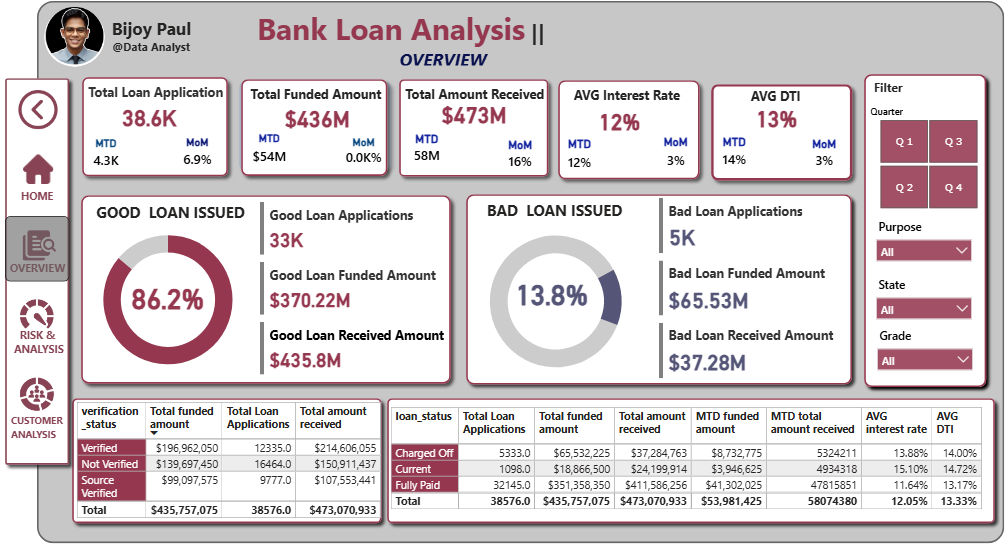

This screenshot's page, from the dashboard's own definition file:
{"tool":"powerbi","page":{"name":"Overview","canvas":[1280,720],"ordinal":0},"visuals":[{"type":"shape","box":[301.6,105.9,207.4,129.5],"z":0},{"type":"shape","box":[57.4,15.1,1209.1,677.7],"z":1000},{"type":"shape","box":[700.3,105.1,194.7,141.9],"z":1000,"group":"g2"},{"type":"shape","box":[891.4,109.4,194.4,138.2],"z":2000},{"type":"card","fields":{"Values":["All_Measure.AVG DTI"]},"box":[940.3,136.8,83.5,50.4],"z":3000},{"type":"shape","box":[501.1,103.7,204.5,139.7],"z":4000},{"type":"card","fields":{"Values":["All_Measure.Total amount received"]},"box":[516.4,133.9,175.1,45.6],"z":5000},{"type":"textbox","box":[917.7,117.7,122.3,36.2],"z":6000},{"type":"card","fields":{"Values":["All_Measure.AVG interest rate"]},"box":[736.5,138.3,98.1,52.8],"z":6000,"group":"g2"},{"type":"card","title":"MTD","fields":{"Values":["All_Measure.MTD avg dti"]},"box":[888.5,184.3,80.6,40.3],"z":7000},{"type":"textbox","box":[704.8,116.4,175.2,40.4],"z":8000,"group":"g2"},{"type":"card","title":"MoM","fields":{"Values":["All_Measure.MoM avg dti"]},"box":[1010.9,185.8,60.5,44.6],"z":8000},{"type":"shape","box":[303.4,104.2,200.8,138.9],"z":9000},{"type":"textbox","box":[506.9,115.2,194.4,33.1],"z":10000},{"type":"card","title":"MTD","fields":{"Values":["All_Measure.MTD avg interest rate"]},"box":[701.4,186.9,68.7,47.8],"z":10000,"group":"g2"},{"type":"shape","box":[104.7,101.1,200.1,141.9],"z":11000,"group":"g1"},{"type":"card","title":"MTD","fields":{"Values":["All_Measure.MTD total amount received"]},"box":[513.2,179.6,61.9,43.8],"z":11000},{"type":"card","title":"MoM","fields":{"Values":["All_Measure.MoM avg int rate"]},"box":[828.8,184.1,54.3,48.3],"z":12000,"group":"g2"},{"type":"shape","box":[104.2,249.1,480,253.6],"z":12000},{"type":"card","title":"MoM","fields":{"Values":["All_Measure.MoM amount received"]},"box":[630.9,187.2,60.4,42.3],"z":13000},{"type":"shape","box":[583.8,248.1,500.2,256],"z":13000,"group":"g3"},{"type":"card","fields":{"Values":["All_Measure.Total funded amount"]},"box":[303.4,135.8,208.3,49.8],"z":14000},{"type":"donutChart","fields":{"Category":["financial_loan.Good Vs Bad Loan"],"Y":["All_Measure.Total Loan Applications"]},"box":[101.1,282.8,239.8,211.9],"z":15000},{"type":"card","fields":{"Values":["All_Measure.Good loan %"]},"box":[164.2,360,113.8,50.4],"z":16000},{"type":"cardVisual","fields":{"Data":["All_Measure.Bad Loan Applications","All_Measure.Bad Loan Funded Amount","All_Measure.Bad Loan Received Amount"]},"box":[829.8,256.8,254.9,236.2],"z":17000,"group":"g3"},{"type":"cardVisual","fields":{"Data":["All_Measure.Good Loan Applications","All_Measure.Good Loan Funded Amount","All_Measure.Good Loan Received Amount"]},"box":[331.2,260.6,253.4,229],"z":17000},{"type":"shape","box":[1082.3,98.1,170.6,409.1],"z":18000},{"type":"card","fields":{"Values":["All_Measure.Total Loan Applications"]},"box":[135.1,131.7,123.3,54.8],"z":18000,"group":"g1"},{"type":"textbox","box":[554.4,259.4,293.8,49],"z":18000,"group":"g3"},{"type":"textbox","box":[74.9,260.6,293.8,46.1],"z":19000},{"type":"slicer","fields":{"Values":["financial_loan.purpose"]},"box":[1096.4,280.9,139.8,92.7],"z":20000},{"type":"slicer","fields":{"Values":["financial_loan.address_state"]},"box":[1095.8,353.2,140.4,66.4],"z":21000},{"type":"textbox","box":[302.4,115.2,207.4,31.7],"z":22000},{"type":"textbox","box":[99.4,112.6,211.7,34.6],"z":23000,"group":"g1"},{"type":"slicer","fields":{"Values":["Date Table.Qtr"]},"box":[1089.4,145.2,161.8,132.4],"z":23000},{"type":"slicer","fields":{"Values":["financial_loan.grade"]},"box":[1097.4,418.1,140.4,70.9],"z":24000},{"type":"group","id":"g1","title":"Group 1","box":[99.4,101.1,211.7,141.9],"z":25000},{"type":"card","title":"MTD","fields":{"Values":["All_Measure.MTD loan Application"]},"box":[106.3,184.9,72,46.8],"z":25000,"group":"g1"},{"type":"card","title":"MTD","fields":{"Values":["All_Measure.MTD funded amount"]},"box":[299.5,178.2,95.6,48.6],"z":26000},{"type":"card","title":"MoM","fields":{"Values":["All_Measure.MoM Loan Applications"]},"box":[221.6,183.9,70.8,47.3],"z":26000,"group":"g1"},{"type":"group","id":"g2","title":"Group 3","box":[700.3,105.1,194.7,141.9],"z":27000},{"type":"donutChart","fields":{"Category":["financial_loan.Good Vs Bad Loan"],"Y":["All_Measure.Total Loan Applications"]},"box":[584.6,282.7,241.9,216],"z":27000,"group":"g3"},{"type":"card","fields":{"Values":["All_Measure.Bad loan %"]},"box":[600.5,341.7,198.7,77.8],"z":28000,"group":"g3"},{"type":"shape","box":[92.2,502.6,404.6,174.2],"z":28000},{"type":"shape","box":[486.7,502.6,777.6,174.2],"z":29000},{"type":"card","title":"MoM","fields":{"Values":["All_Measure.MoM funded amount"]},"box":[428.7,184.2,74,40.8],"z":30000},{"type":"tableEx","fields":{"Values":["financial_loan.loan_status","All_Measure.Total Loan Applications","All_Measure.Total funded amount","All_Measure.Total amount received","All_Measure.MTD funded amount","All_Measure.MTD total amount received","All_Measure.AVG interest rate","All_Measure.AVG DTI"]},"box":[493.9,517,757.4,145.4],"z":31000},{"type":"group","id":"g3","title":"Group 4","box":[554.4,248.1,530.3,256],"z":32000},{"type":"textbox","box":[1098.3,107,92.7,35.3],"z":33000},{"type":"tableEx","fields":{"Values":["financial_loan.verification_status","All_Measure.Total funded amount","All_Measure.Total Loan Applications","All_Measure.Total amount received"]},"box":[100.8,511.3,394,164.5],"z":34000},{"type":"shape","box":[8.6,102.2,97.9,501.1],"z":35000},{"type":"textbox","box":[18.7,335.5,93.6,30.2],"z":36000},{"type":"textbox","box":[18.7,419,82.1,49],"z":37000},{"type":"textbox","box":[33.1,244.8,59,31.7],"z":38000},{"type":"image","box":[25.9,121,64.8,59],"z":39000},{"type":"image","box":[15.8,479.5,82.1,53.3],"z":40000},{"type":"image","box":[25.9,380.2,61.9,51.8],"z":41000},{"type":"shape","box":[66.2,23,76.3,74.9],"z":42000},{"type":"image","box":[34.6,198.7,47.5,53.3],"z":43000},{"type":"image","box":[28.8,292.3,61.9,56.2],"z":44000},{"type":"textbox","box":[20.2,525.6,89.3,50.4],"z":45000},{"type":"image","box":[57.6,17.3,93.6,82.1],"z":46000},{"type":"shape","box":[17.3,283.7,80.6,82.1],"z":47000},{"type":"textbox","box":[126.7,30.2,148.3,57.6],"z":48000},{"type":"textbox","box":[250.6,18.7,532.8,82.1],"z":49000}]}

Visuals, with their boxes on the page's 1280x720 design canvas (x1, y1, x2, y2). These are canvas units, not pixel positions in the 1008x548 screenshot, which may show the page scaled, cropped or inside an application window:
shape: (302, 106, 509, 235)
shape: (57, 15, 1266, 693)
shape: (700, 105, 895, 247)
shape: (891, 109, 1086, 248)
card - All_Measure.AVG DTI: (940, 137, 1024, 187)
shape: (501, 104, 706, 243)
card - All_Measure.Total amount received: (516, 134, 692, 180)
textbox: (918, 118, 1040, 154)
card - All_Measure.AVG interest rate: (736, 138, 835, 191)
"MTD" card: (888, 184, 969, 225)
textbox: (705, 116, 880, 157)
"MoM" card: (1011, 186, 1071, 230)
shape: (303, 104, 504, 243)
textbox: (507, 115, 701, 148)
"MTD" card: (701, 187, 770, 235)
shape: (105, 101, 305, 243)
"MTD" card: (513, 180, 575, 223)
"MoM" card: (829, 184, 883, 232)
shape: (104, 249, 584, 503)
"MoM" card: (631, 187, 691, 230)
shape: (584, 248, 1084, 504)
card - All_Measure.Total funded amount: (303, 136, 512, 186)
donutChart - financial_loan.Good Vs Bad Loan x All_Measure.Total Loan Applications: (101, 283, 341, 495)
card - All_Measure.Good loan %: (164, 360, 278, 410)
cardVisual - All_Measure.Bad Loan Applications x All_Measure.Bad Loan Funded Amount: (830, 257, 1085, 493)
cardVisual - All_Measure.Good Loan Applications x All_Measure.Good Loan Funded Amount: (331, 261, 585, 490)
shape: (1082, 98, 1253, 507)
card - All_Measure.Total Loan Applications: (135, 132, 258, 186)
textbox: (554, 259, 848, 308)
textbox: (75, 261, 369, 307)
slicer - financial_loan.purpose: (1096, 281, 1236, 374)
slicer - financial_loan.address_state: (1096, 353, 1236, 420)
textbox: (302, 115, 510, 147)
textbox: (99, 113, 311, 147)
slicer - Date Table.Qtr: (1089, 145, 1251, 278)
slicer - financial_loan.grade: (1097, 418, 1238, 489)
"Group 1" group: (99, 101, 311, 243)
"MTD" card: (106, 185, 178, 232)
"MTD" card: (300, 178, 395, 227)
"MoM" card: (222, 184, 292, 231)
"Group 3" group: (700, 105, 895, 247)
donutChart - financial_loan.Good Vs Bad Loan x All_Measure.Total Loan Applications: (585, 283, 826, 499)
card - All_Measure.Bad loan %: (600, 342, 799, 420)
shape: (92, 503, 497, 677)
shape: (487, 503, 1264, 677)
"MoM" card: (429, 184, 503, 225)
tableEx - financial_loan.loan_status x All_Measure.Total Loan Applications: (494, 517, 1251, 662)
"Group 4" group: (554, 248, 1085, 504)
textbox: (1098, 107, 1191, 142)
tableEx - financial_loan.verification_status x All_Measure.Total funded amount: (101, 511, 495, 676)
shape: (9, 102, 106, 603)
textbox: (19, 336, 112, 366)
textbox: (19, 419, 101, 468)
textbox: (33, 245, 92, 276)
image: (26, 121, 91, 180)
image: (16, 480, 98, 533)
image: (26, 380, 88, 432)
shape: (66, 23, 142, 98)
image: (35, 199, 82, 252)
image: (29, 292, 91, 348)
textbox: (20, 526, 110, 576)
image: (58, 17, 151, 99)
shape: (17, 284, 98, 366)
textbox: (127, 30, 275, 88)
textbox: (251, 19, 783, 101)
